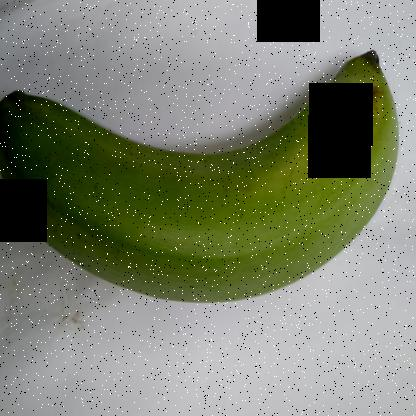freshunripe: (1, 35, 405, 314)
